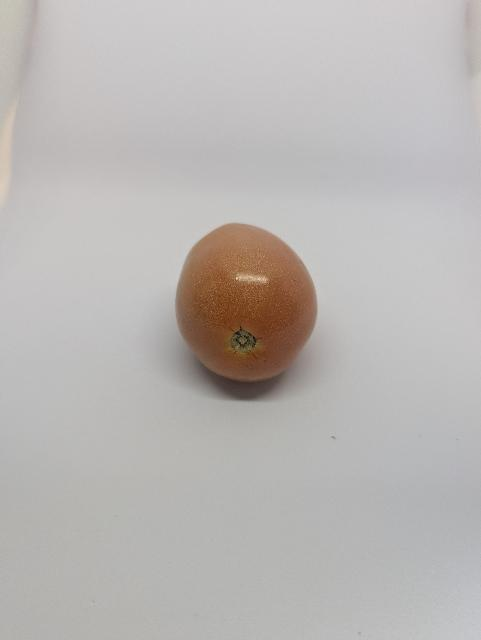red: (163, 215, 325, 395)
